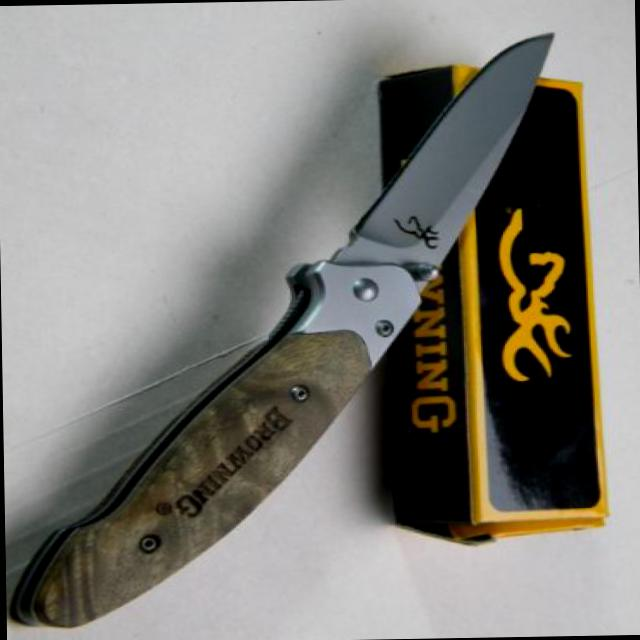knife: (274, 23, 571, 320)
